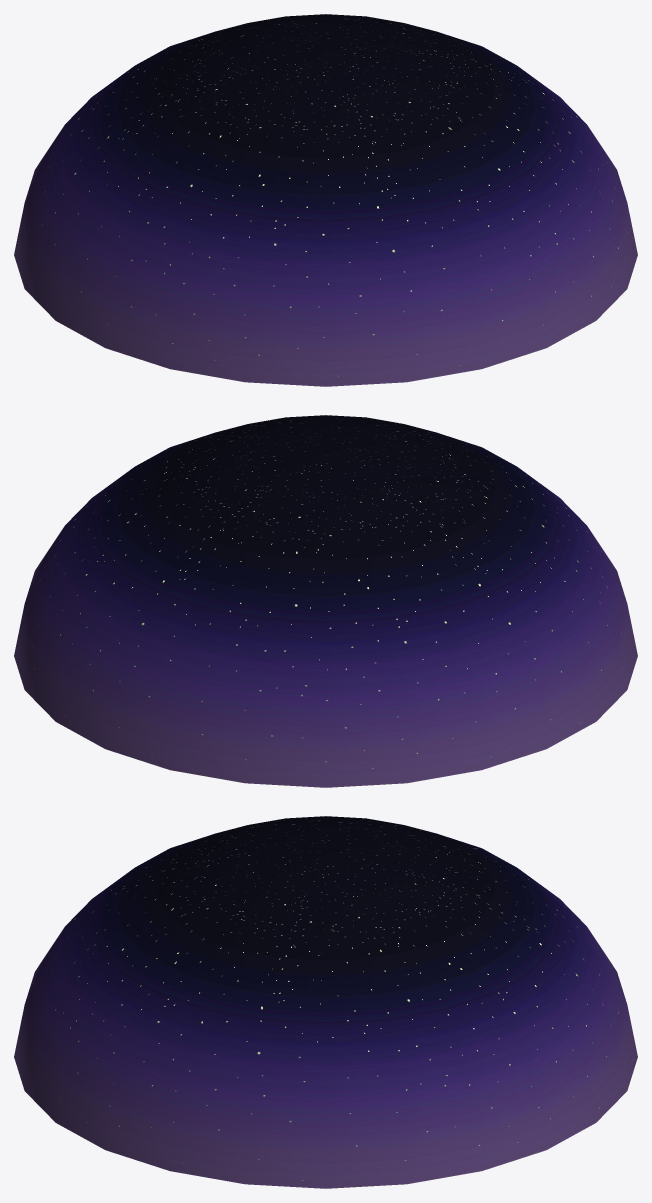
The model's file is sky_02 #580620.fbx.
3 renders of one model, top to bottom at view 1: azimuth 30°, elevation 25°; view 2: azimuth 150°, elevation 25°; view 3: azimuth 270°, elevation 25°, orthographic.
Parts seen in each view (by area): view 1: sky_02; view 2: sky_02; view 3: sky_02.
Boxes of the visible parts, x1=… form: sky_02: x1=14, y1=14, x2=637, y2=386; sky_02: x1=14, y1=415, x2=637, y2=787; sky_02: x1=14, y1=816, x2=637, y2=1188.
Size of the model in its own units: 2106 by 752 by 2106.
